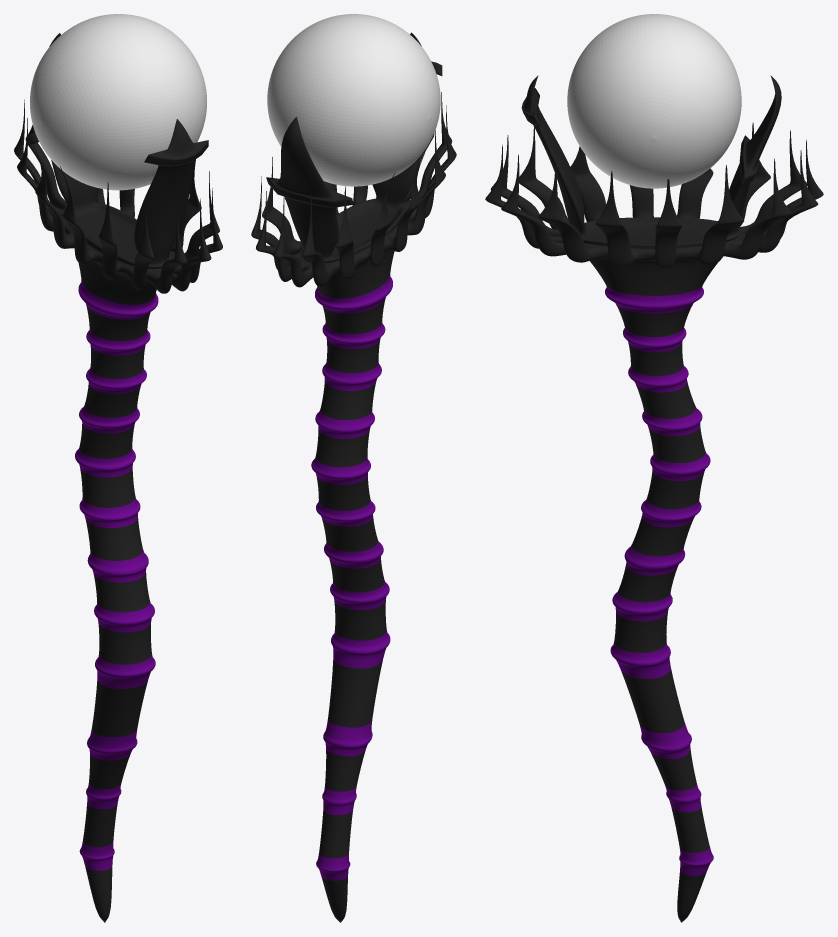
Rendered from blackholestaff.fbx.
3 renders of one model, left to right at view 1: azimuth 30°, elevation 25°; view 2: azimuth 150°, elevation 25°; view 3: azimuth 270°, elevation 25°, orthographic. The views are drawn at different scales.
Visible parts, largest first — view 1: Sphere; view 2: Sphere; view 3: Sphere.
Part boxes in pixels (x1,y1,x2,y2): Sphere: (14, 14, 222, 922); Sphere: (251, 14, 456, 922); Sphere: (485, 14, 823, 922).
Bounding box in the file's own units: 692 × 3904 × 1328.
